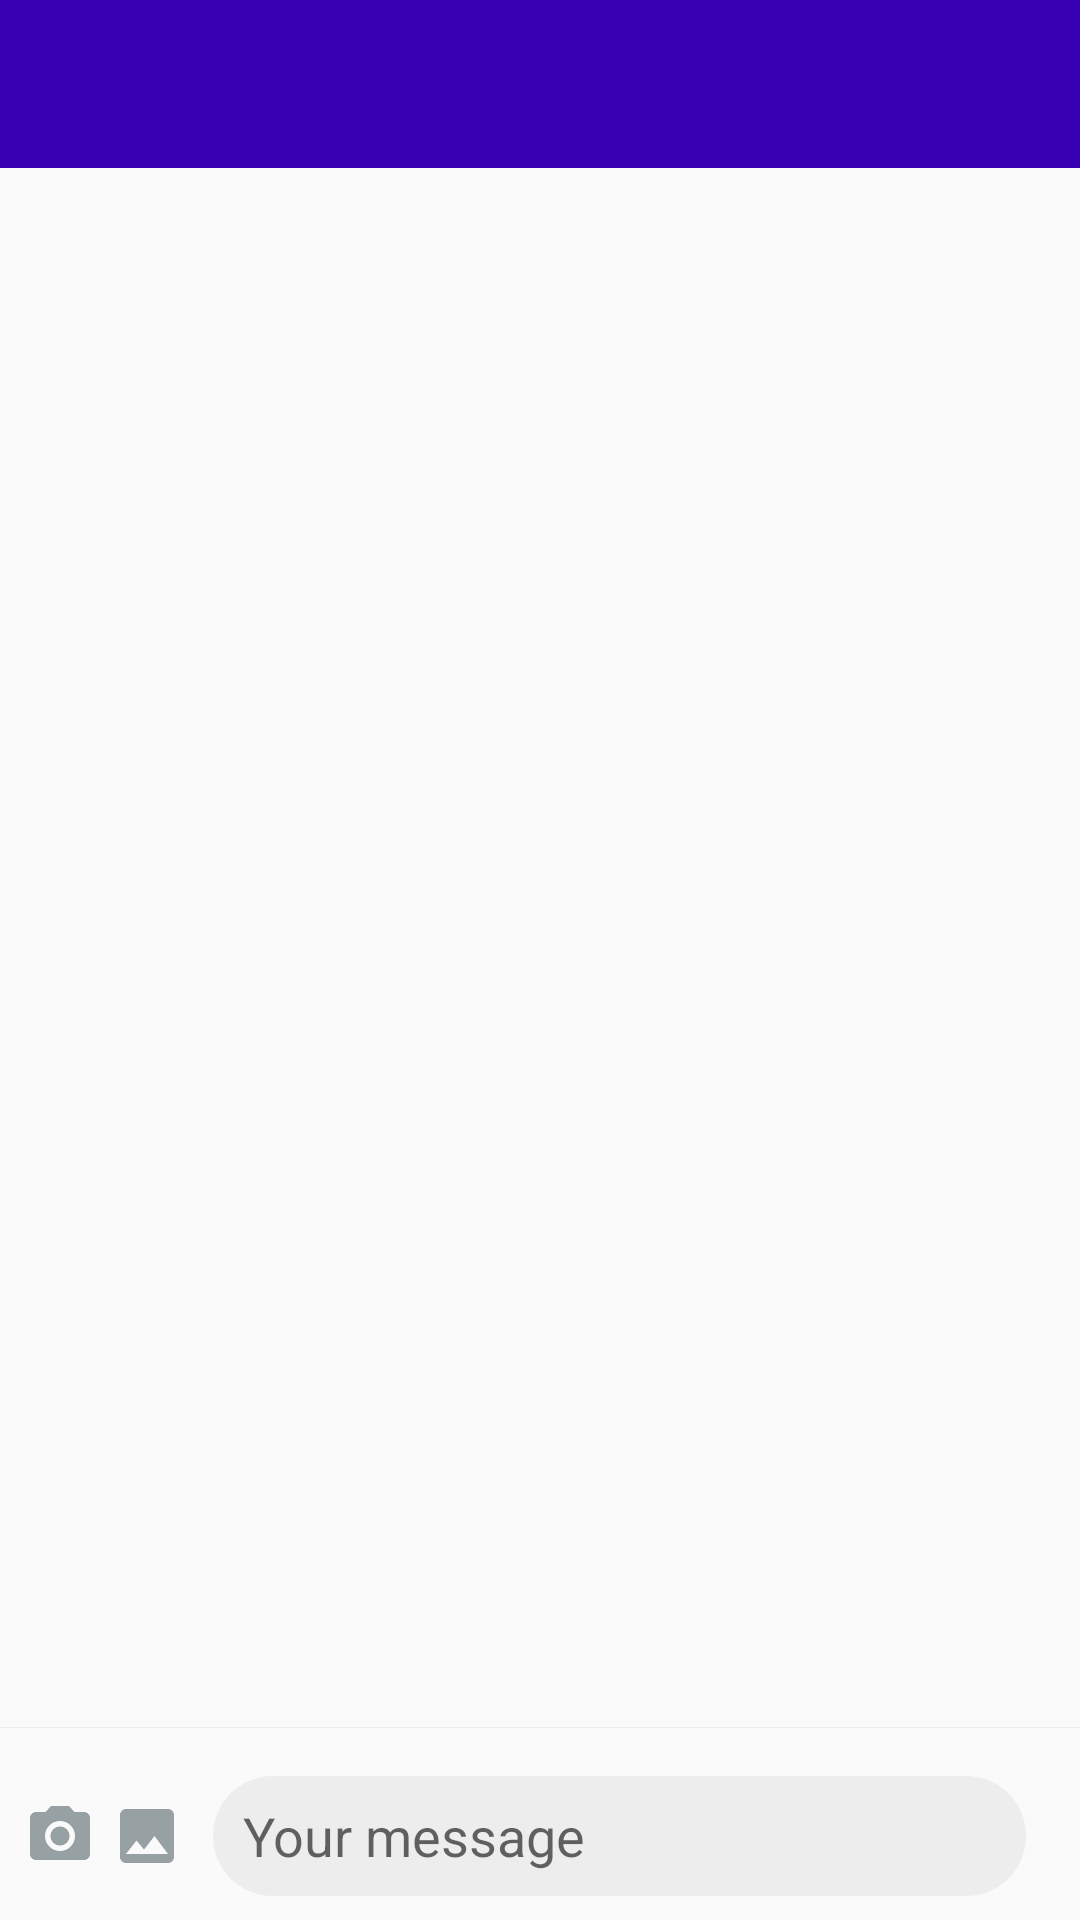

Where icons sit on this 1080 x 1920 app screen, as (x1,y1,x2,y2):
camera: (30,1806,90,1860)
